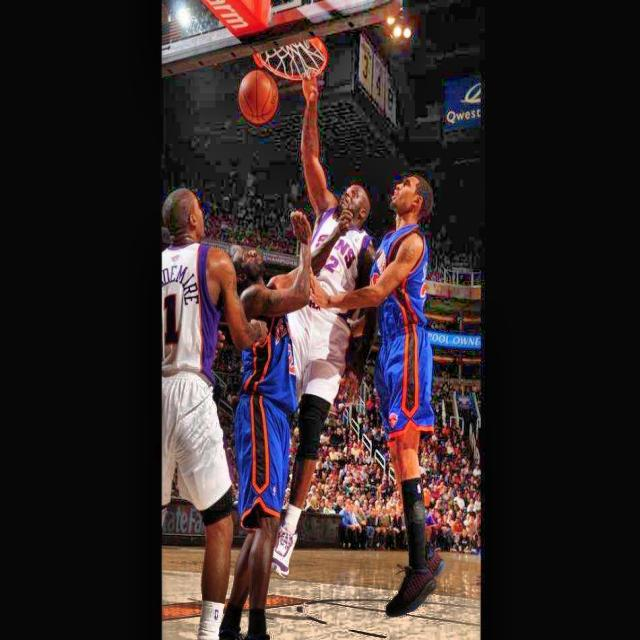board: (238, 68, 279, 124)
